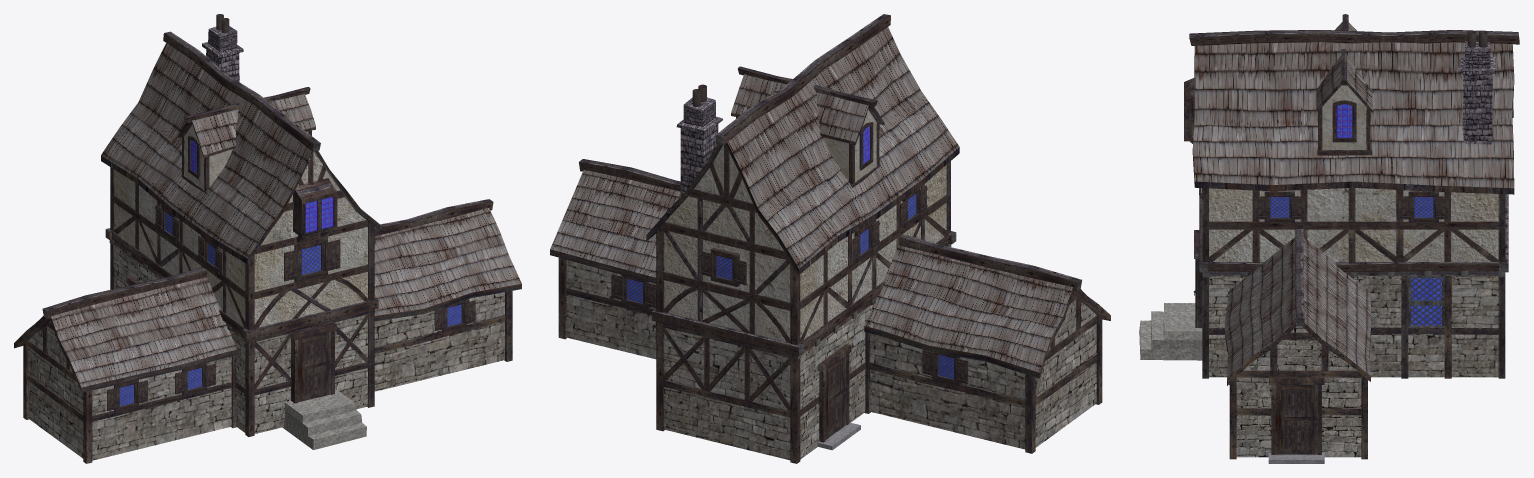
Rendered from medieval_house_04.glb.
The picture shows the model from 3 angles, left to right: view 1: azimuth 30°, elevation 25°; view 2: azimuth 150°, elevation 25°; view 3: azimuth 270°, elevation 25°; orthographic projection. The views are drawn at different scales.
Visible parts, largest first — view 1: medieval_house_04; view 2: medieval_house_04; view 3: medieval_house_04.
Boxes of the visible parts, box(x1,y1,x2,y2) form: medieval_house_04: box(14, 14, 521, 463); medieval_house_04: box(550, 14, 1110, 463); medieval_house_04: box(1139, 14, 1519, 463).
Size of the model in its own units: 15.09 by 9.79 by 10.13.
Materials: 13 (13 with a texture image).
